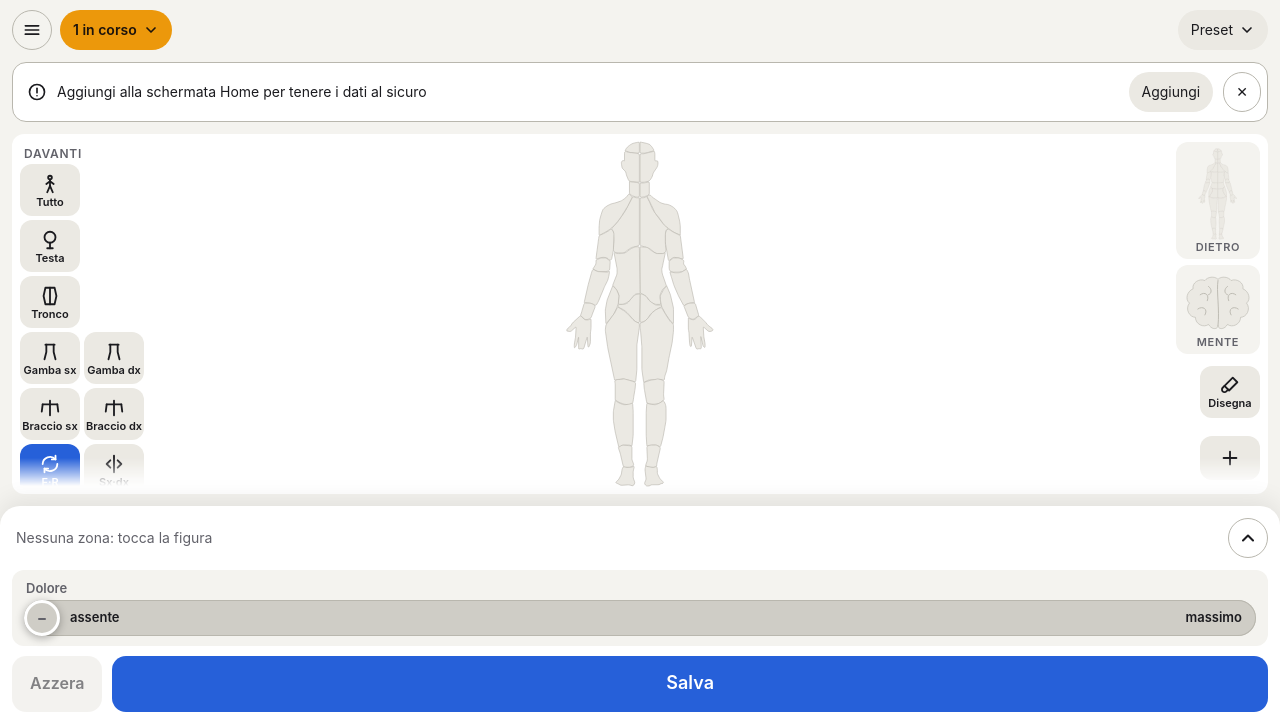
what an update carries › an episode over more than one day says the day on its readings
Click the button "1 in corso".
click(116, 30)  # box [60,10,172,50]
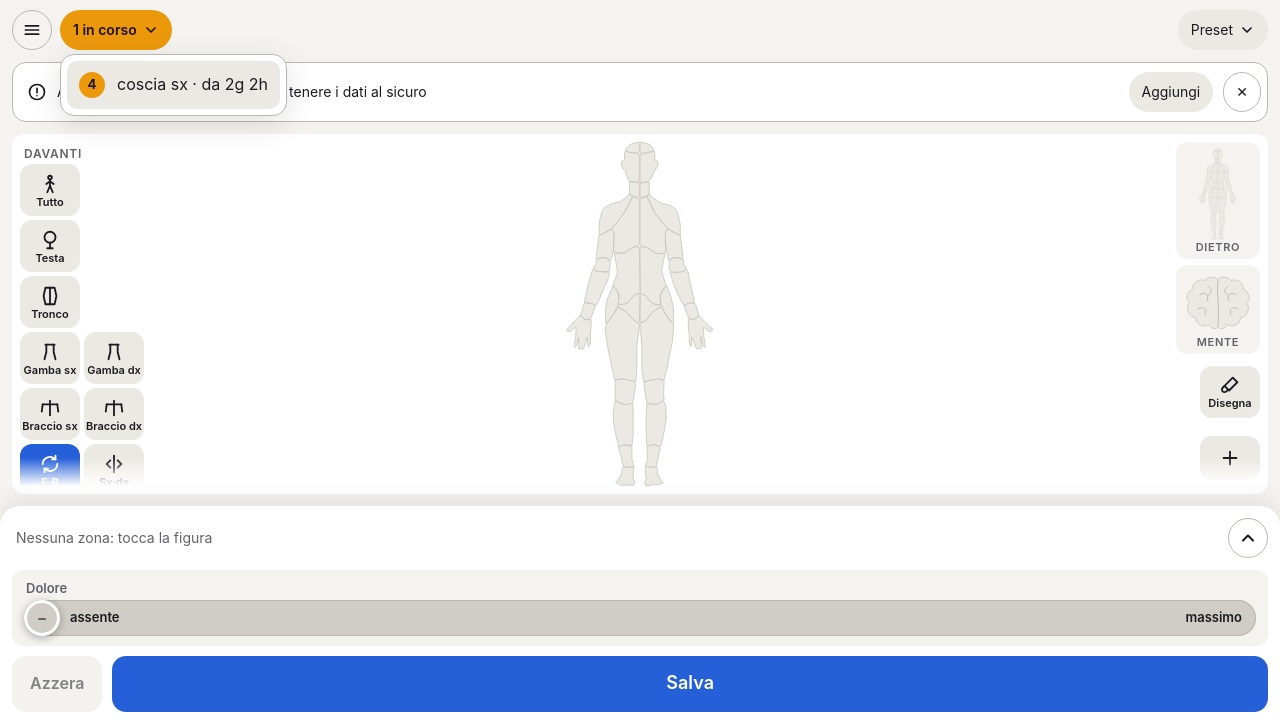
Click the menu item "4 coscia sx · da 2g 2h".
click(174, 85)  # box [67,61,280,109]
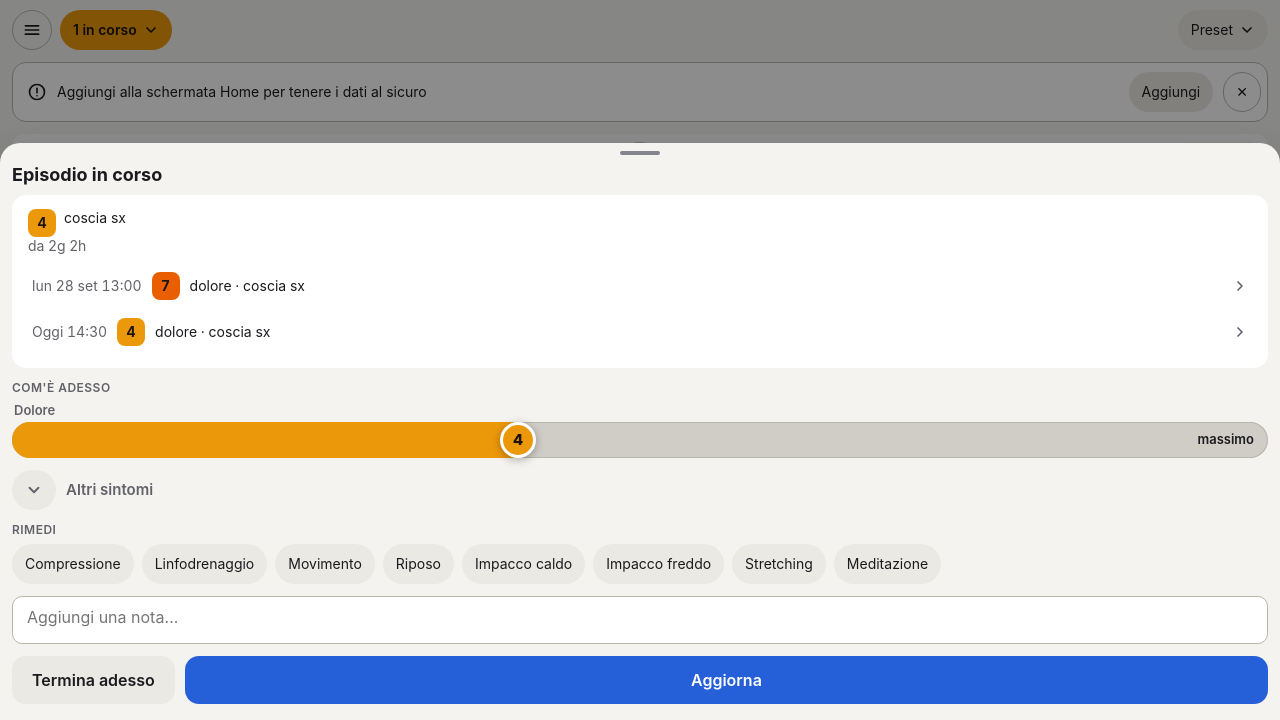
Expected: the button "Oggi 14:30 4 dolore · coscia sx" is shown, [28,310,1252,354]
